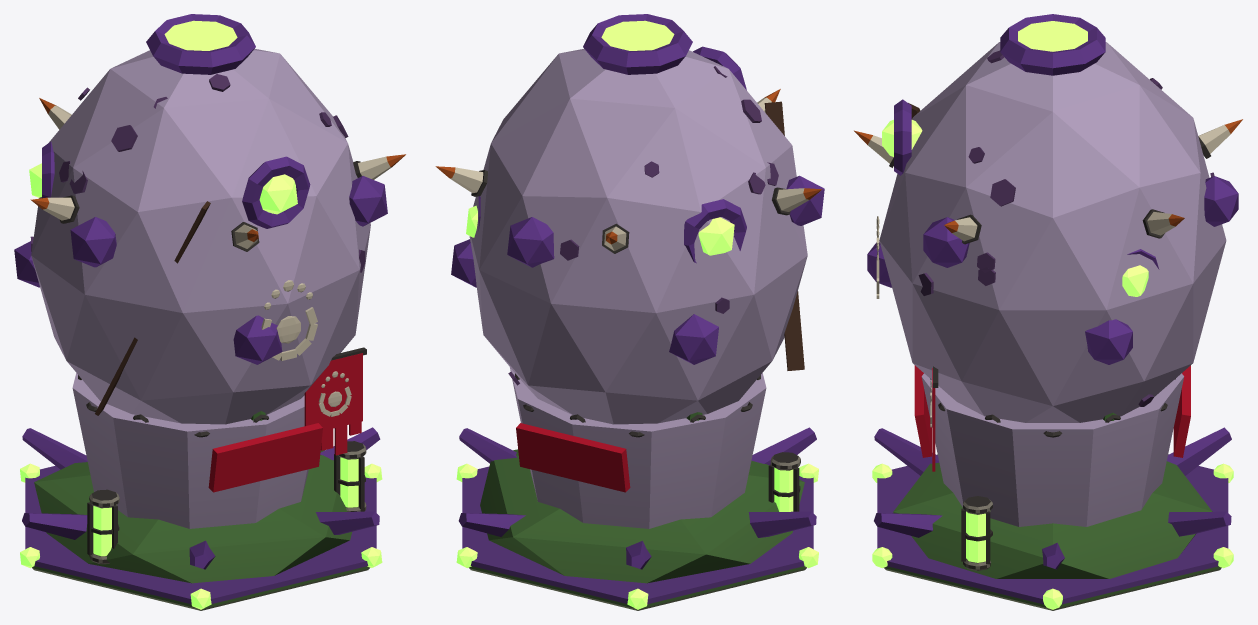
The model's file is sb_depot.glb.
3 views of the same model, side by side, from view 1: azimuth 30°, elevation 25°; view 2: azimuth 150°, elevation 25°; view 3: azimuth 270°, elevation 25° (orthographic).
Parts seen in each view (by area): view 1: sb_depot; view 2: sb_depot; view 3: sb_depot.
Boxes of the visible parts, x1=… form: sb_depot: x1=14, y1=14, x2=405, y2=610; sb_depot: x1=435, y1=14, x2=824, y2=610; sb_depot: x1=854, y1=14, x2=1242, y2=610.
Bounding box in the file's own units: 4.43 × 5.83 × 4.16.
